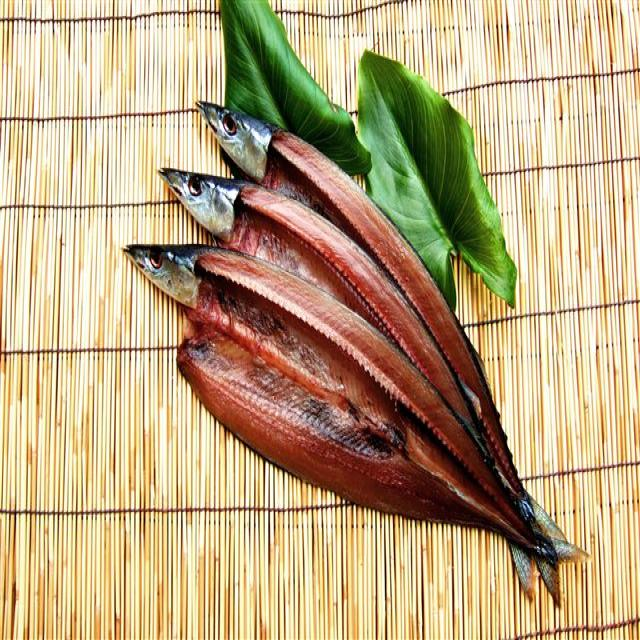熟制海鲜: (116, 96, 592, 615)
